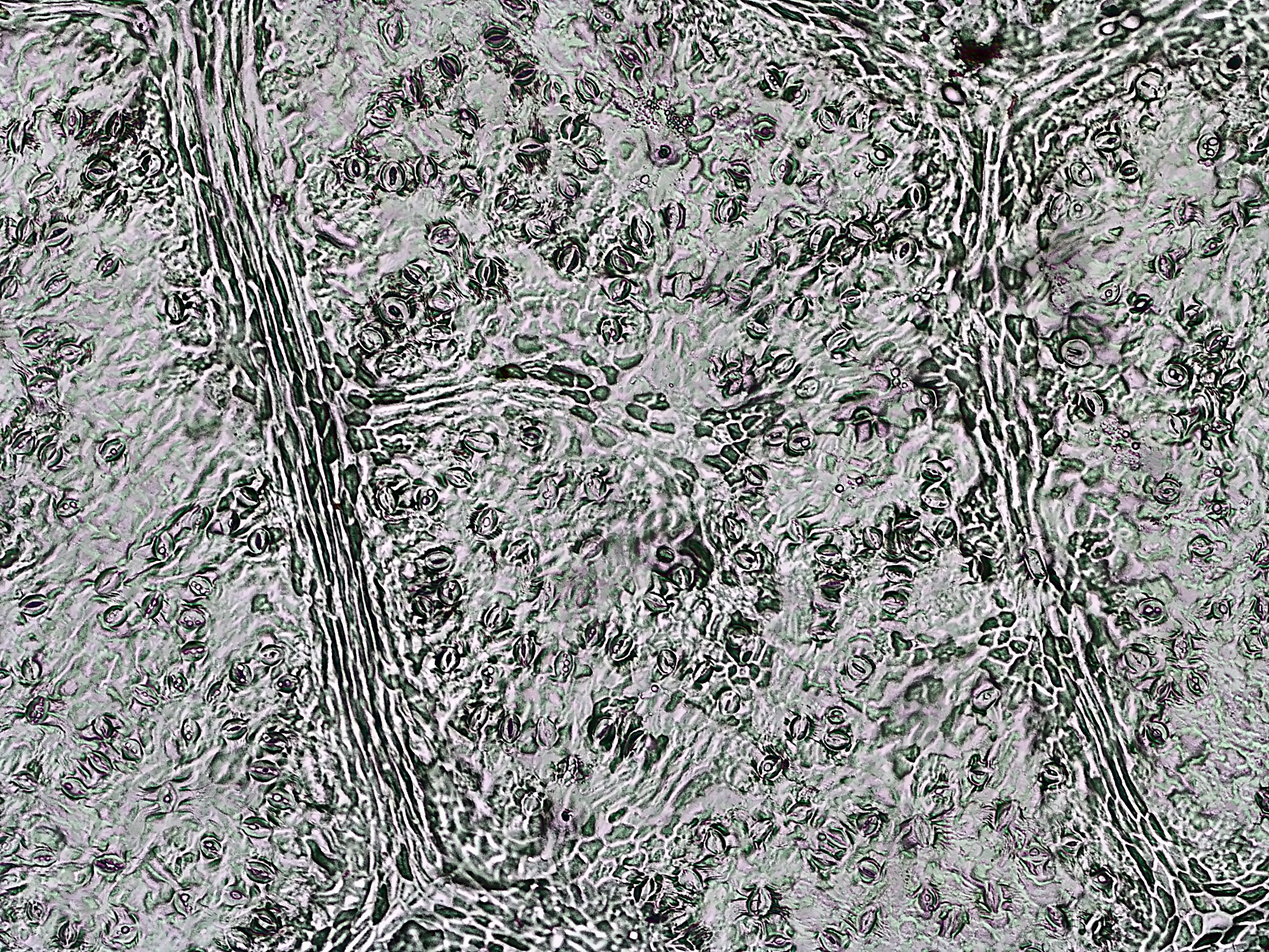stomata: (375, 295, 409, 324), (1061, 337, 1092, 367), (1134, 70, 1163, 102), (747, 884, 773, 918), (590, 716, 615, 751), (1023, 547, 1048, 582), (61, 106, 87, 139), (785, 426, 816, 453), (83, 158, 113, 185), (1197, 130, 1222, 162), (776, 211, 805, 238), (771, 155, 798, 184), (429, 225, 459, 251), (381, 161, 406, 192), (95, 567, 124, 593), (368, 100, 394, 129), (536, 476, 558, 510), (455, 106, 479, 137), (583, 472, 607, 503), (382, 13, 404, 46), (889, 237, 918, 262), (375, 352, 404, 377), (356, 327, 385, 352), (1081, 387, 1104, 418), (250, 908, 278, 933), (846, 654, 874, 679), (810, 223, 835, 251), (995, 801, 1019, 830), (94, 854, 124, 877), (226, 926, 252, 952), (1162, 362, 1188, 388), (1153, 479, 1180, 504), (413, 156, 436, 185), (465, 431, 495, 453), (515, 635, 535, 668), (821, 728, 851, 750), (982, 881, 1002, 914), (484, 605, 510, 630), (593, 4, 619, 29), (42, 222, 68, 247), (30, 172, 55, 198), (535, 718, 558, 746), (250, 759, 279, 781), (245, 861, 274, 883), (716, 197, 741, 222), (25, 697, 49, 723), (474, 507, 498, 533), (45, 272, 69, 298), (869, 143, 895, 167), (1097, 281, 1121, 307), (663, 202, 686, 229), (906, 182, 929, 209), (972, 686, 999, 709), (880, 591, 908, 613), (1017, 845, 1051, 863), (153, 532, 174, 561), (576, 148, 600, 173), (1068, 161, 1092, 186), (1049, 193, 1069, 223), (725, 624, 750, 648), (857, 905, 877, 935), (1149, 677, 1173, 702), (1126, 647, 1150, 672), (1046, 905, 1070, 930), (755, 236, 775, 266), (174, 889, 197, 915), (498, 715, 521, 741), (576, 75, 599, 101), (1219, 50, 1245, 73), (60, 777, 87, 799), (377, 485, 399, 512), (827, 331, 854, 353), (1137, 598, 1164, 620), (423, 550, 451, 571), (476, 257, 497, 285), (632, 217, 653, 245), (633, 876, 654, 904), (11, 119, 26, 158), (242, 817, 271, 837), (142, 591, 162, 620), (401, 77, 421, 106), (165, 293, 185, 322), (438, 581, 462, 605), (437, 648, 461, 672), (758, 755, 782, 779), (38, 442, 61, 467), (12, 432, 35, 457), (609, 248, 634, 271), (1095, 130, 1120, 153), (679, 867, 702, 892), (132, 684, 158, 706), (511, 63, 537, 85), (556, 245, 578, 271), (558, 172, 580, 198), (718, 690, 740, 716), (578, 536, 604, 558), (222, 884, 249, 905), (19, 595, 46, 616), (26, 376, 53, 397), (813, 545, 841, 565), (88, 750, 112, 773), (345, 156, 368, 180), (914, 388, 938, 411), (1220, 367, 1243, 391), (158, 783, 177, 812), (100, 439, 125, 461), (417, 486, 439, 511), (560, 116, 582, 141), (764, 423, 789, 445), (57, 342, 82, 364), (923, 460, 948, 482), (858, 858, 880, 883), (258, 645, 284, 666), (268, 788, 294, 809), (428, 292, 454, 313), (725, 161, 751, 182), (1189, 535, 1215, 556), (705, 829, 726, 855), (751, 818, 772, 844), (260, 733, 287, 753), (445, 468, 472, 488), (22, 327, 52, 345), (847, 221, 874, 241), (1041, 763, 1068, 783), (883, 564, 911, 583), (810, 849, 838, 868), (608, 279, 631, 302), (97, 254, 120, 277), (819, 928, 842, 951), (610, 635, 632, 659), (968, 557, 990, 581), (112, 922, 137, 943), (12, 772, 37, 793), (248, 528, 269, 553), (460, 166, 481, 191), (1154, 253, 1175, 278), (1172, 635, 1192, 661), (470, 705, 489, 732), (601, 317, 620, 344), (585, 619, 604, 646), (913, 815, 929, 847), (108, 111, 125, 141), (200, 836, 222, 859), (668, 565, 691, 587), (1145, 721, 1167, 744), (796, 376, 819, 398), (93, 715, 114, 739), (104, 606, 128, 627), (404, 263, 428, 284), (726, 280, 750, 301), (140, 153, 161, 177), (479, 665, 500, 689), (790, 715, 811, 739), (1187, 672, 1208, 696), (168, 672, 188, 697), (673, 272, 692, 298), (750, 121, 776, 140), (642, 593, 668, 612), (177, 609, 206, 626), (555, 653, 573, 680), (229, 663, 251, 685), (620, 42, 642, 64), (495, 191, 517, 213), (1182, 304, 1204, 326), (911, 540, 933, 562), (1091, 869, 1113, 891), (440, 54, 461, 77), (1168, 414, 1189, 437), (788, 802, 811, 823), (524, 218, 548, 238), (657, 650, 677, 674), (1118, 160, 1142, 180), (895, 513, 919, 533), (182, 641, 207, 660), (187, 575, 212, 594), (1205, 501, 1230, 520), (863, 526, 882, 551), (723, 516, 742, 541), (30, 849, 56, 867), (1174, 198, 1192, 224), (17, 215, 33, 244), (207, 682, 228, 704), (860, 815, 882, 836), (486, 28, 509, 48), (519, 426, 542, 446), (1208, 417, 1231, 437), (59, 922, 78, 946), (233, 486, 258, 504), (817, 257, 843, 274), (411, 597, 433, 617), (1206, 330, 1228, 350), (840, 291, 862, 311), (918, 888, 938, 910), (788, 297, 807, 320), (771, 355, 794, 374), (745, 466, 768, 485), (221, 720, 245, 738), (56, 499, 80, 517), (519, 137, 543, 155), (764, 68, 782, 92), (182, 719, 199, 744), (788, 518, 805, 543), (122, 739, 142, 760), (820, 108, 840, 129), (935, 516, 955, 537), (693, 661, 713, 682), (827, 829, 848, 849), (785, 86, 806, 106), (733, 549, 755, 568), (22, 659, 42, 679), (1202, 238, 1223, 257), (1131, 294, 1152, 312), (969, 767, 990, 785), (276, 674, 298, 691), (1060, 835, 1083, 851), (748, 320, 767, 339), (765, 935, 790, 949), (26, 901, 44, 920), (1211, 600, 1230, 618), (827, 707, 847, 723)
